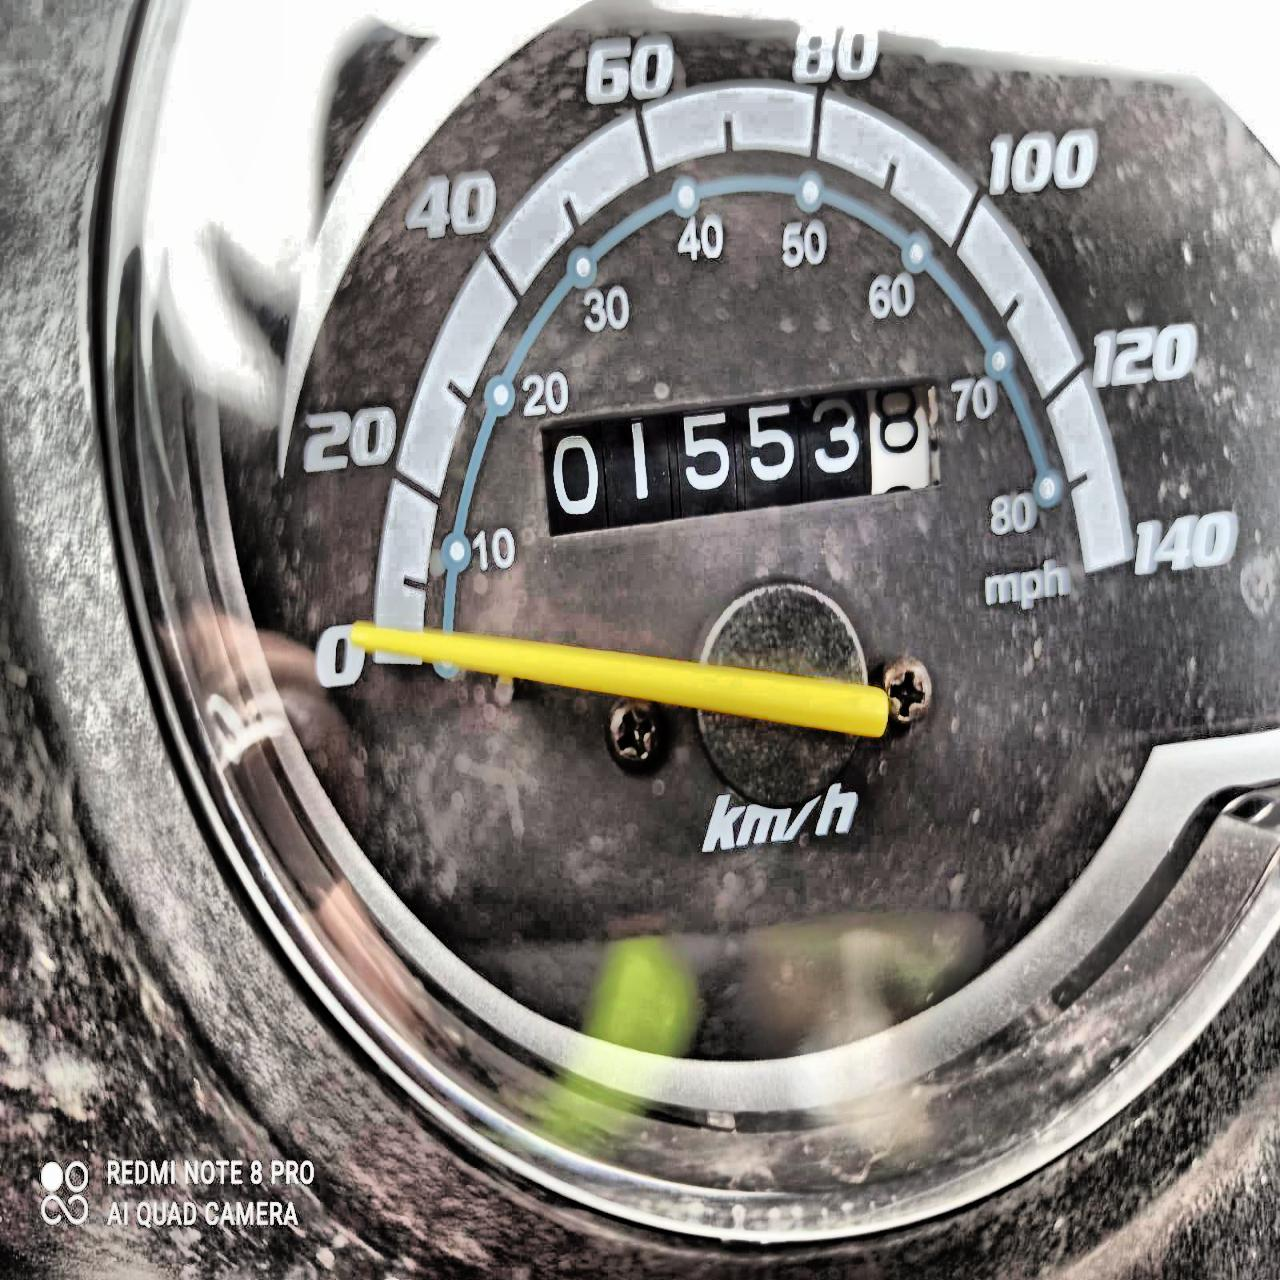0: (546, 428, 600, 525), (544, 363, 568, 413)
1: (622, 403, 659, 523)
3: (809, 388, 863, 496)
5: (680, 397, 735, 505), (745, 388, 797, 491)
8: (871, 376, 921, 472)
odometer: (538, 373, 945, 546)
